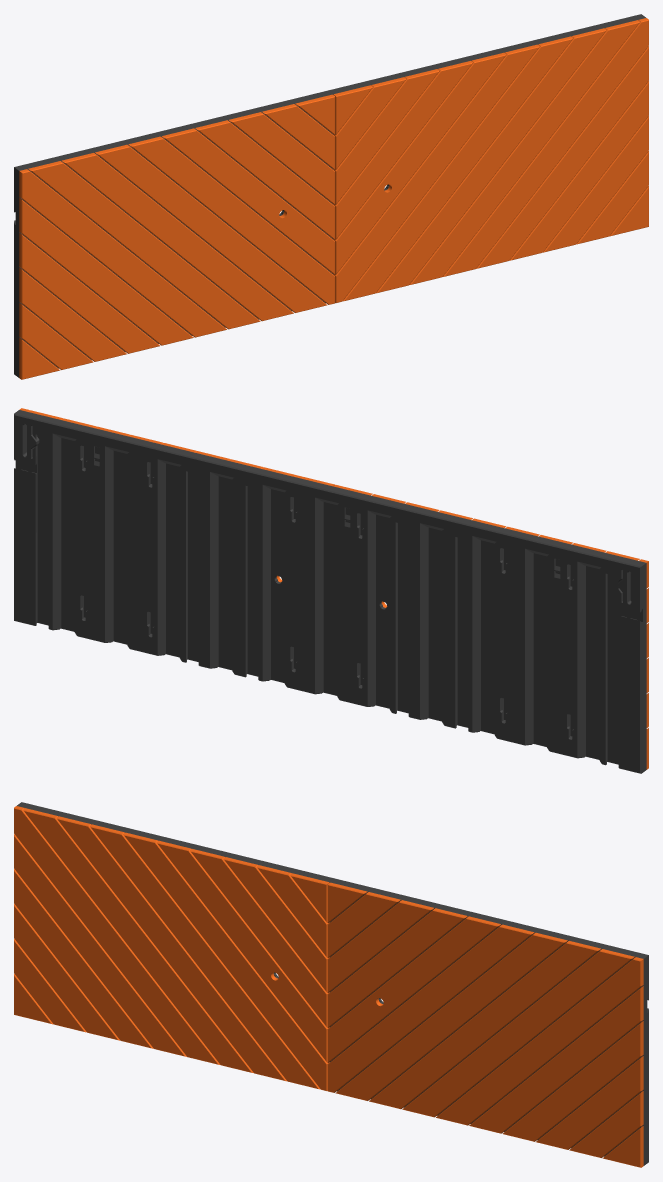
Rendered from Faceplate_Chevron_3W-15H.lib.glb.
3 renders of one model, top to bottom at view 1: azimuth 30°, elevation 25°; view 2: azimuth 150°, elevation 25°; view 3: azimuth 330°, elevation 25°, orthographic.
Parts seen in each view (by area): view 1: Faceplate_Chevron_3W-15H; view 2: Faceplate_Chevron_3W-15H; view 3: Faceplate_Chevron_3W-15H.
Boxes of the visible parts, bbox=[...] form: Faceplate_Chevron_3W-15H: bbox=[14, 14, 648, 379]; Faceplate_Chevron_3W-15H: bbox=[14, 408, 648, 773]; Faceplate_Chevron_3W-15H: bbox=[14, 802, 648, 1167].
Size of the model in its own units: 263 by 83 by 6.2.
